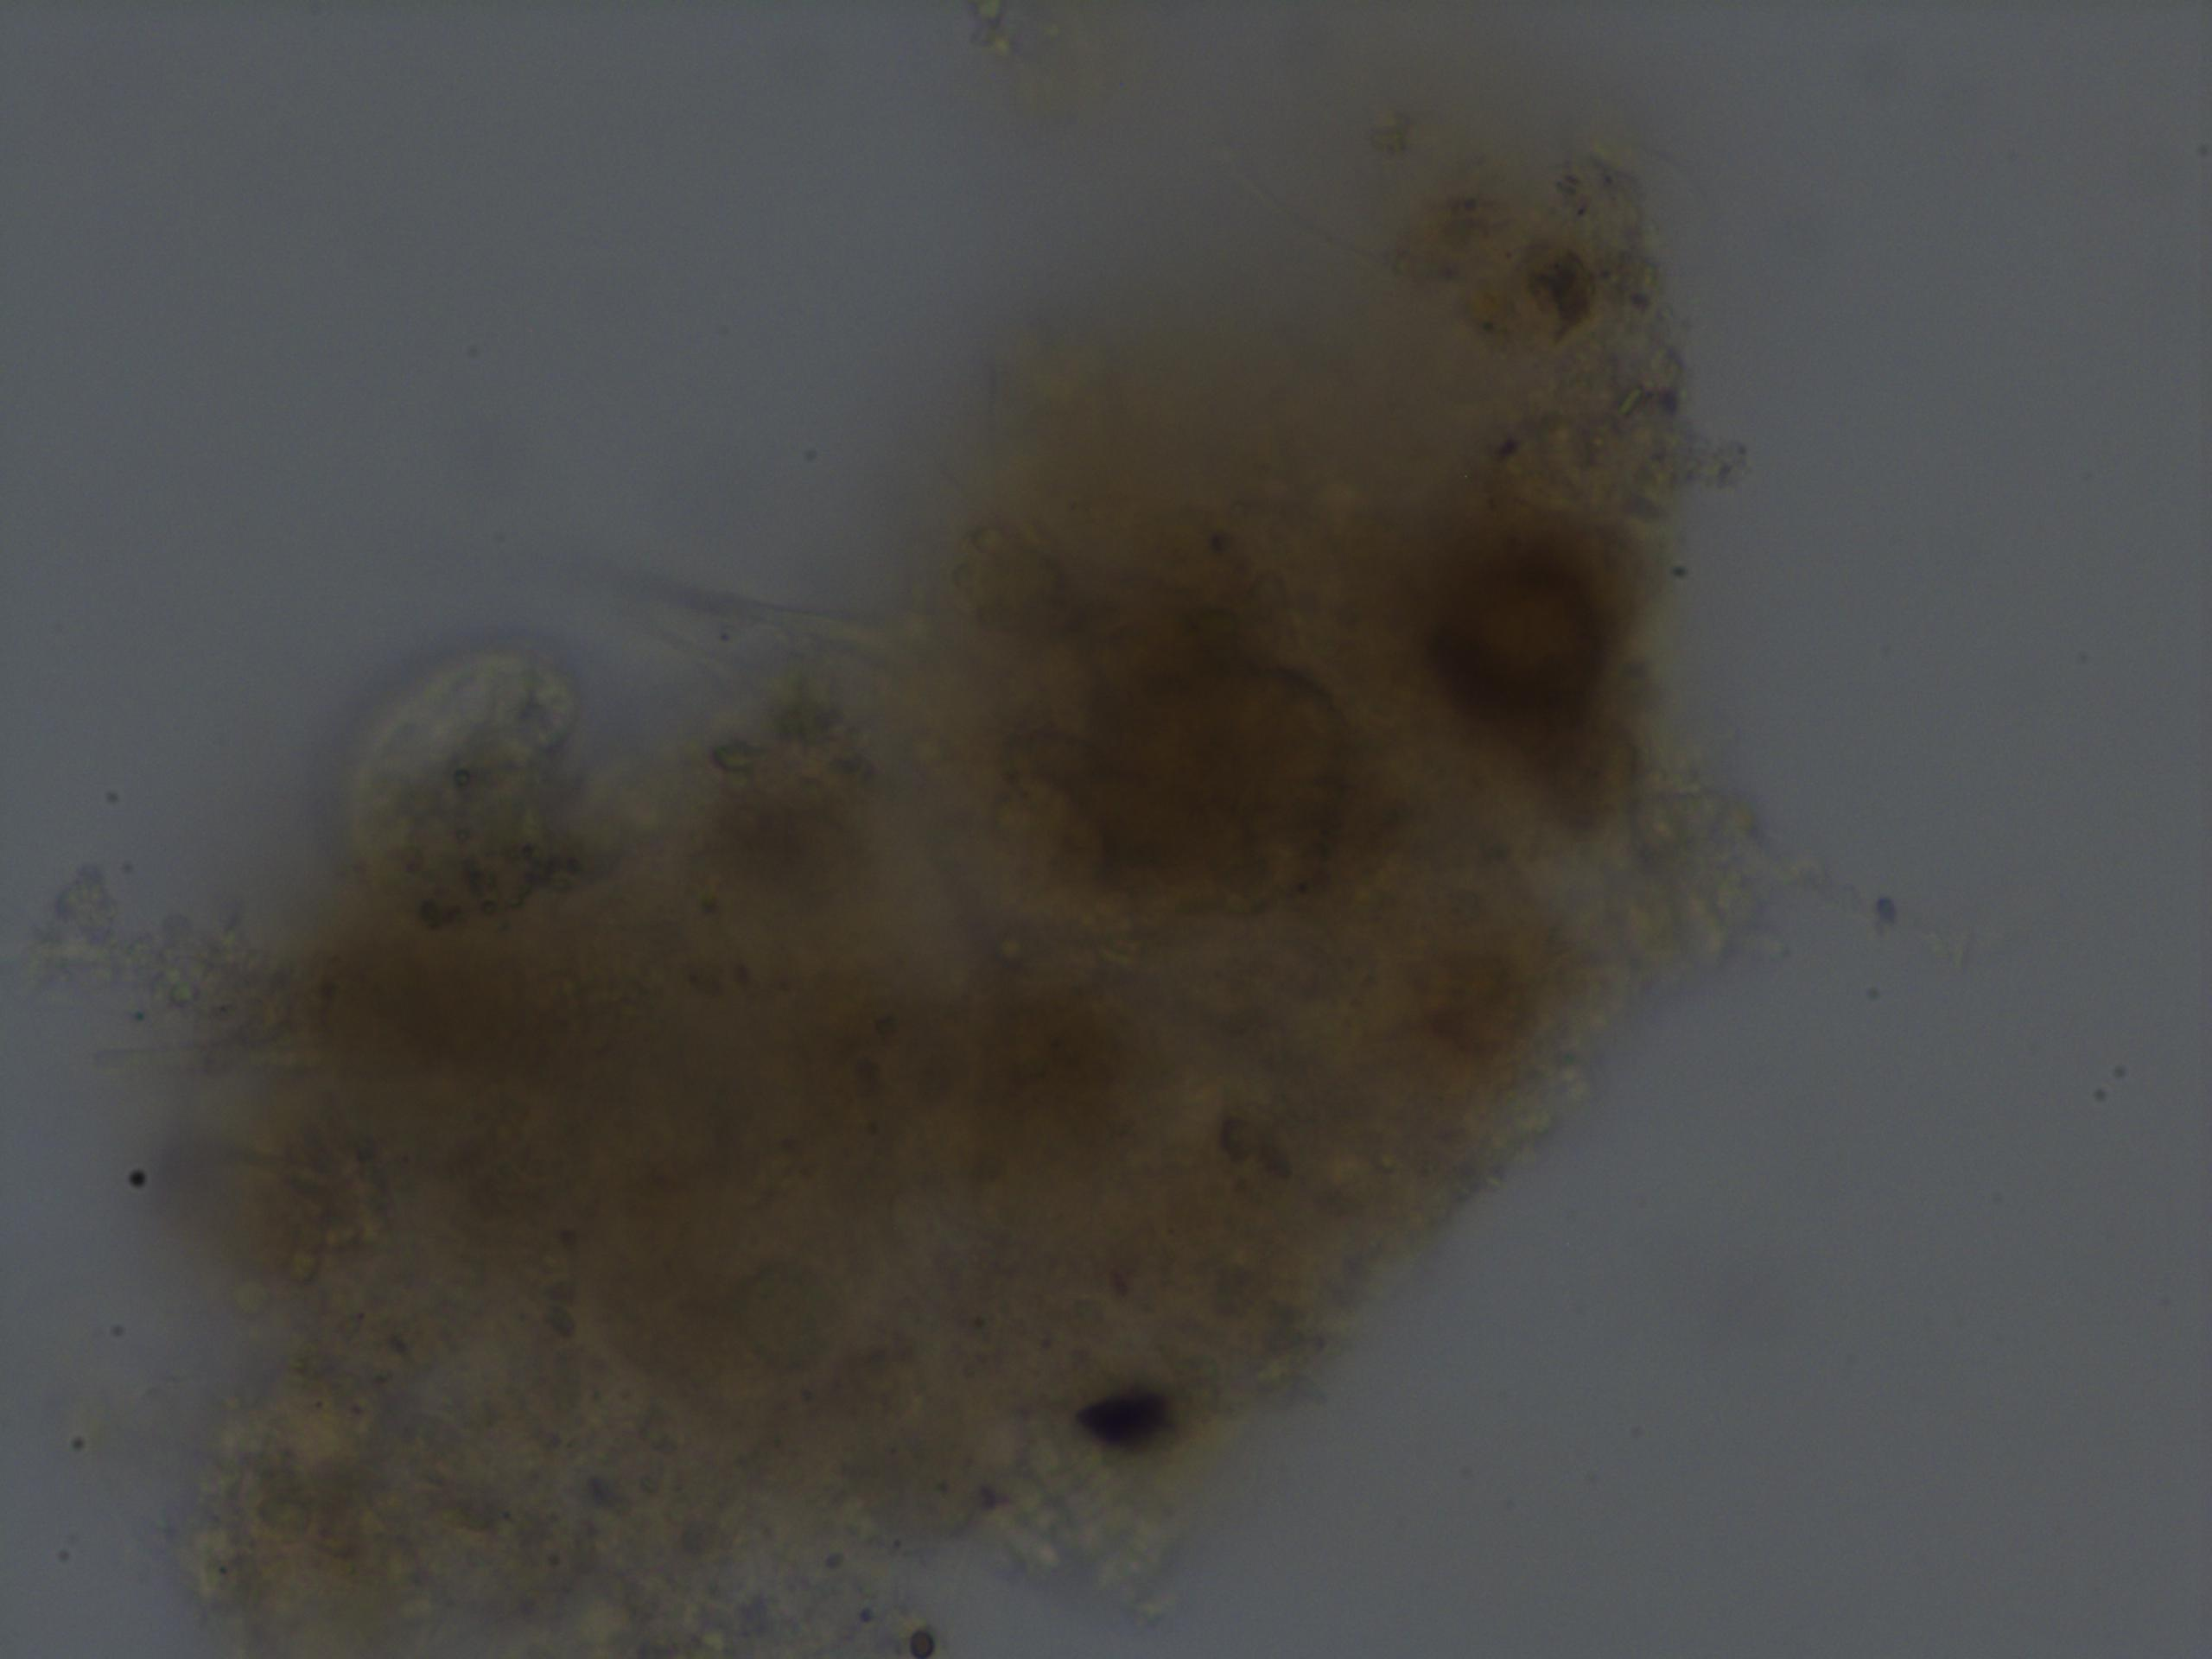spherical_floc: (148, 148, 1750, 1654)
